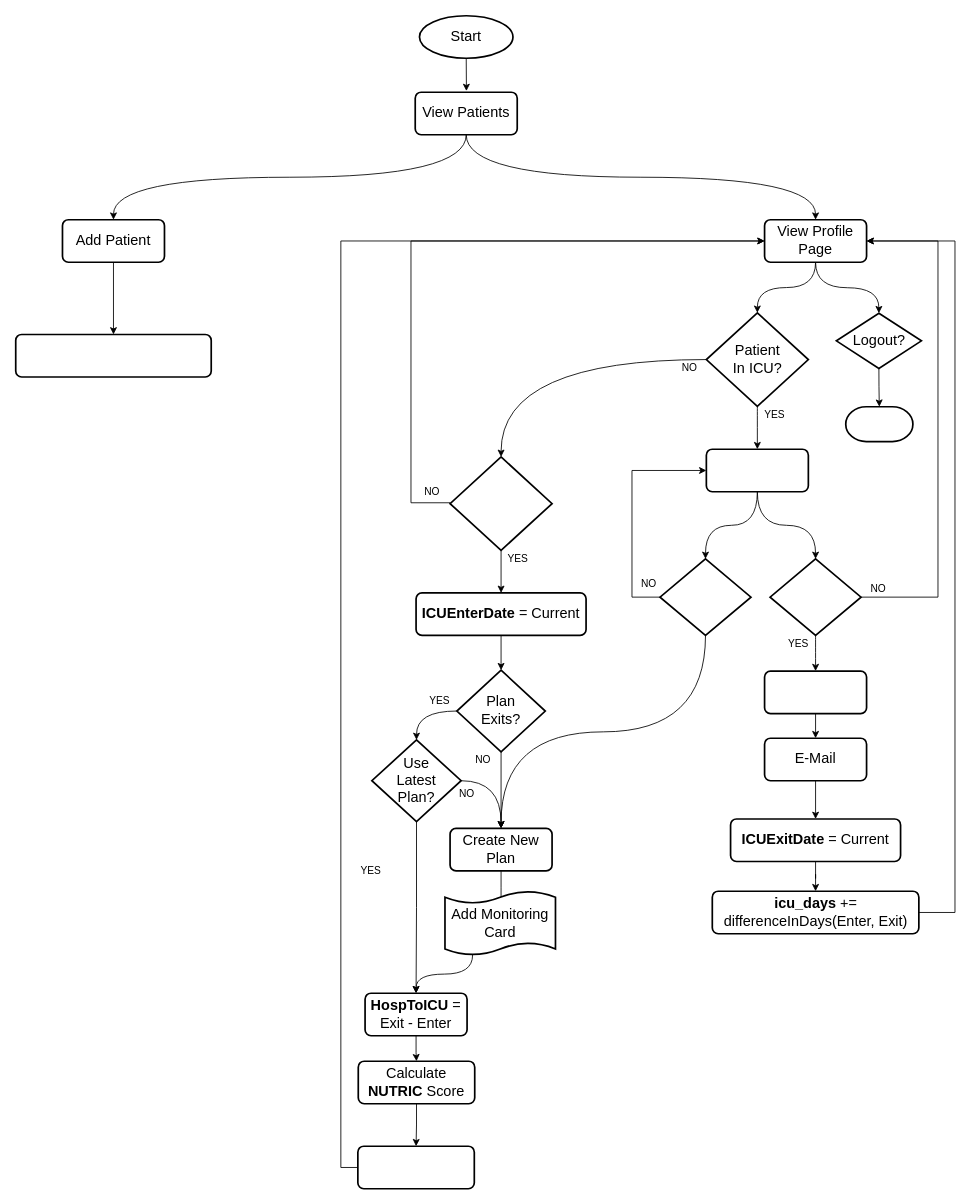
Image size: 977x1204. Some labels were removed from this diagram. The shapes that lost their labels are listed below. From the top down, each one's box as (x1, y1, x2, y2) in pixels, then its label:
(14, 333, 212, 377): admission_date = Current ICUExitDate = Current
(844, 405, 913, 442): END
(705, 448, 809, 492): Monitor
(449, 456, 552, 551): Shift To ICU?
(659, 558, 751, 636): Add Plan?
(769, 558, 861, 636): Exit ICU?
(763, 670, 867, 714): Generate Prescription
(357, 1145, 475, 1189): Update Patient overallStatus
